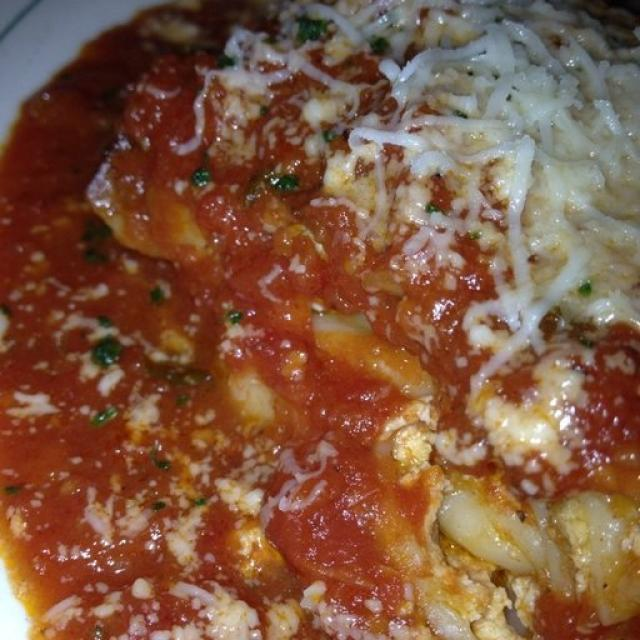Lasagna: (41, 25, 619, 619)
